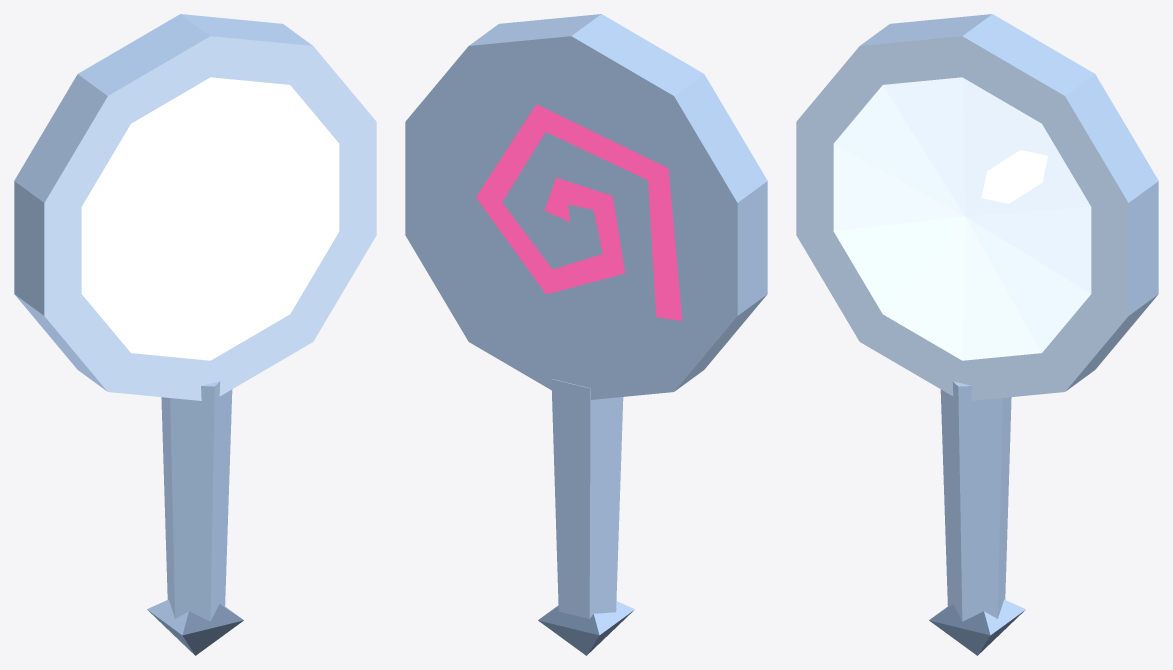
The model's file is hand-mirror.glb.
3 views of the same model, side by side, from view 1: azimuth 30°, elevation 25°; view 2: azimuth 150°, elevation 25°; view 3: azimuth 330°, elevation 25° (orthographic).
Parts seen in each view (by area): view 1: hand-mirror; view 2: hand-mirror; view 3: hand-mirror.
Part boxes in pixels (x1,y1,x2,y2): hand-mirror: (14,14,376,655); hand-mirror: (405,14,767,655); hand-mirror: (796,14,1158,655).
Bounding box in the file's own units: 0.3804 × 0.69 × 0.0734.
